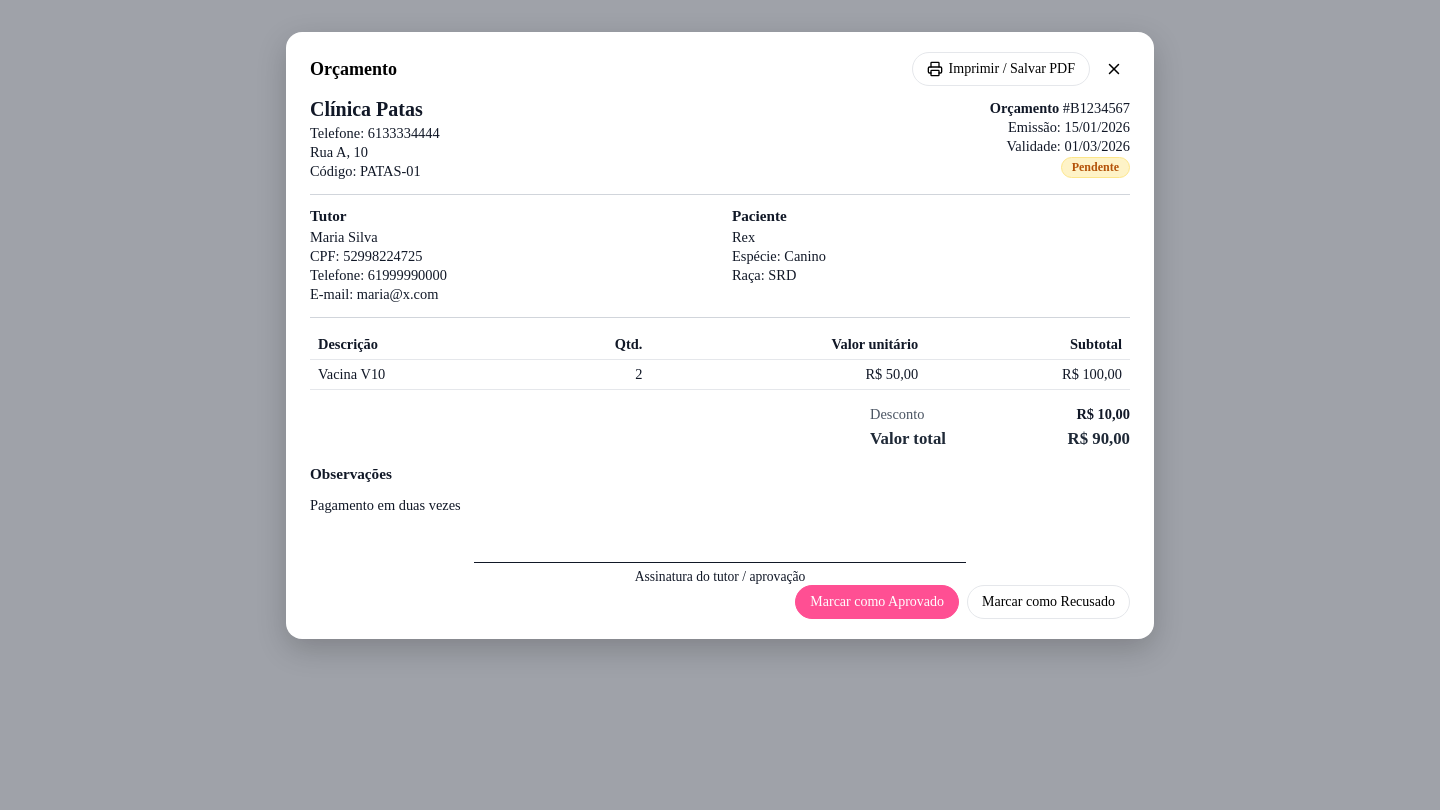
Scenario: BudgetDetailsPrintModal › exige confirmação antes de aprovar ou recusar no modal
The width and height of the screenshot is (1440, 810).
What coordinates should you click on to do the following:
click the button "Marcar como Aprovado"
I would click on:
 (877, 602)
Its box is x1=795 y1=585 x2=959 y2=619.
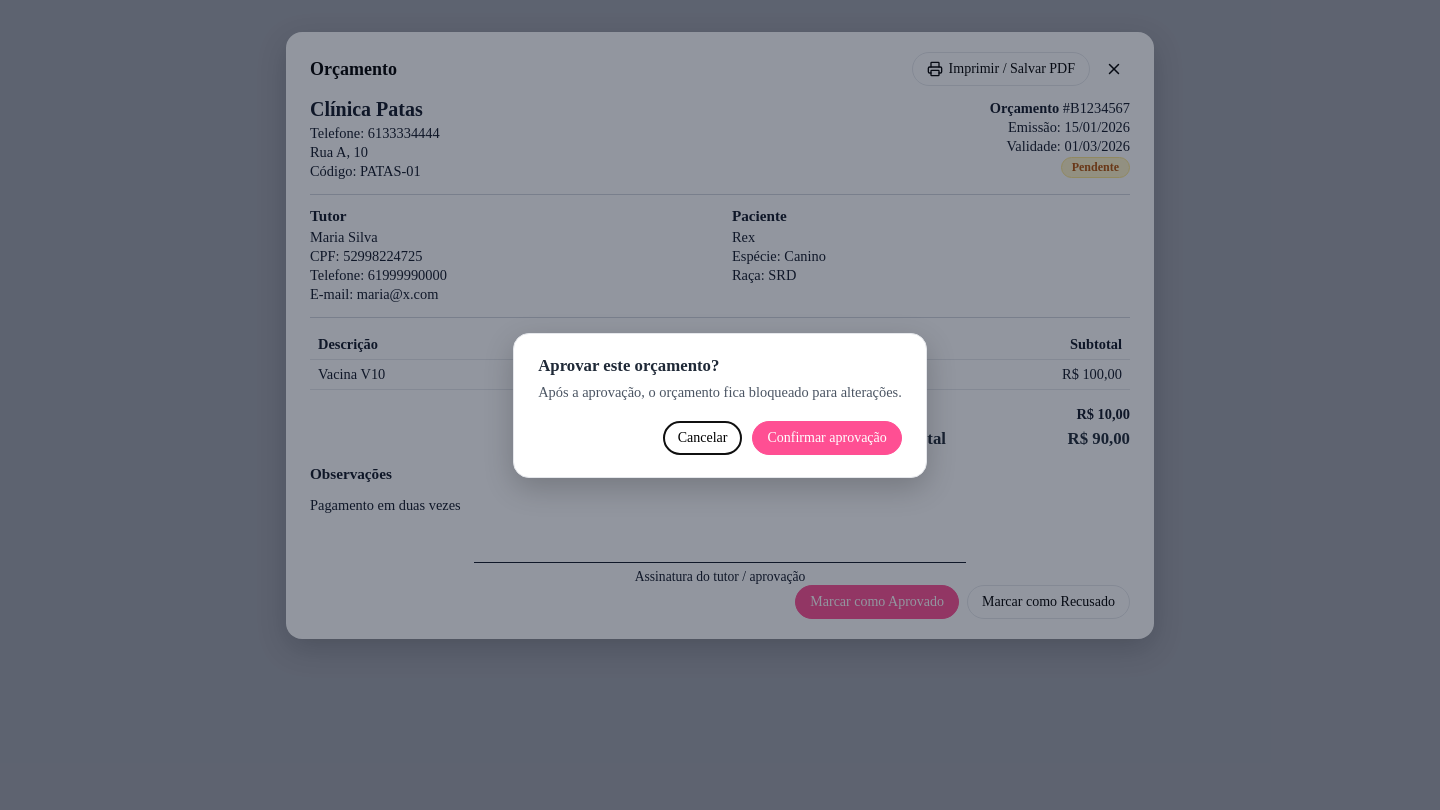
What coordinates should you click on to do the following:
click the button "Cancelar"
I would click on:
 (703, 438)
Its box is x1=663 y1=420 x2=742 y2=454.
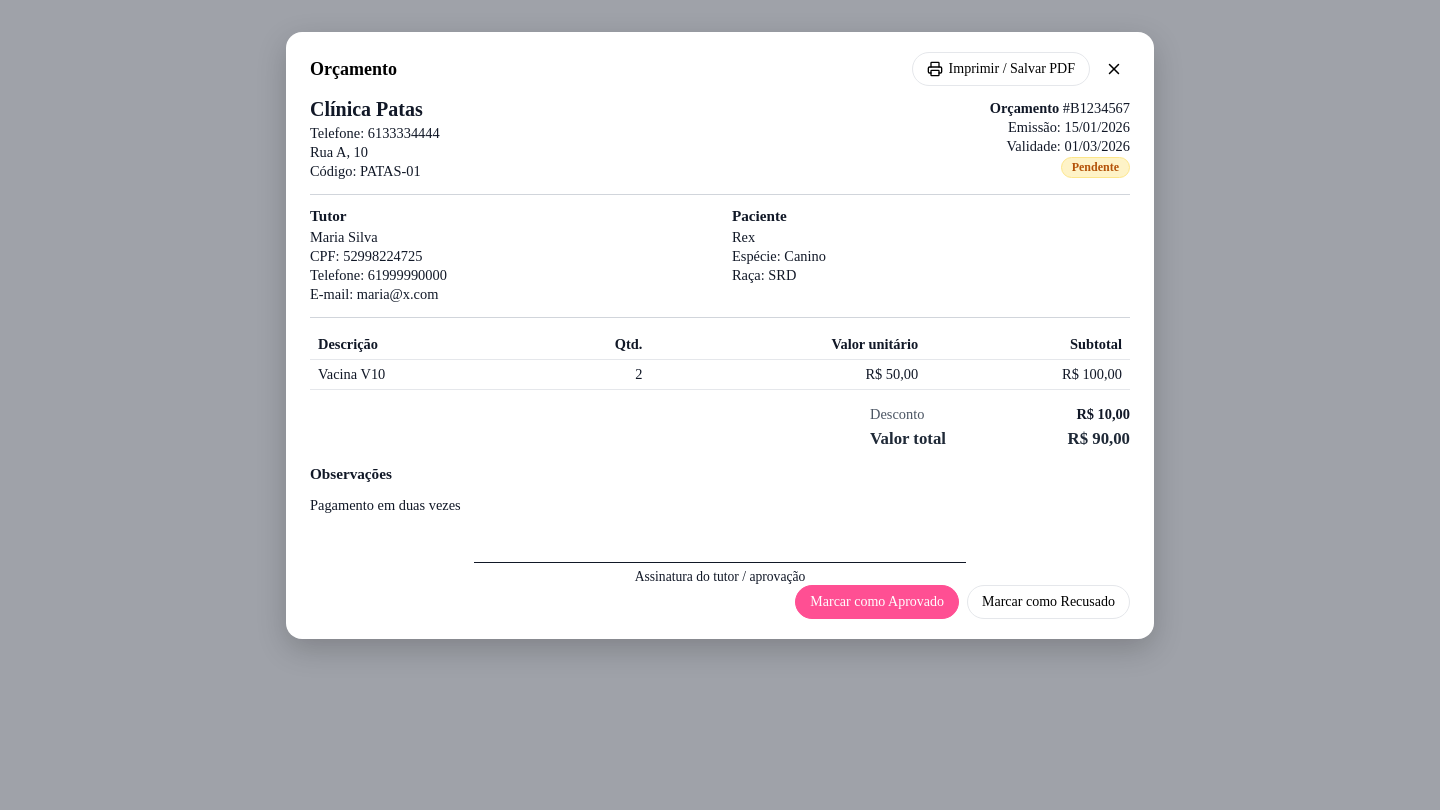
What coordinates should you click on to do the following:
click the button "Marcar como Aprovado"
I would click on:
 (877, 602)
Its box is x1=795 y1=585 x2=959 y2=619.
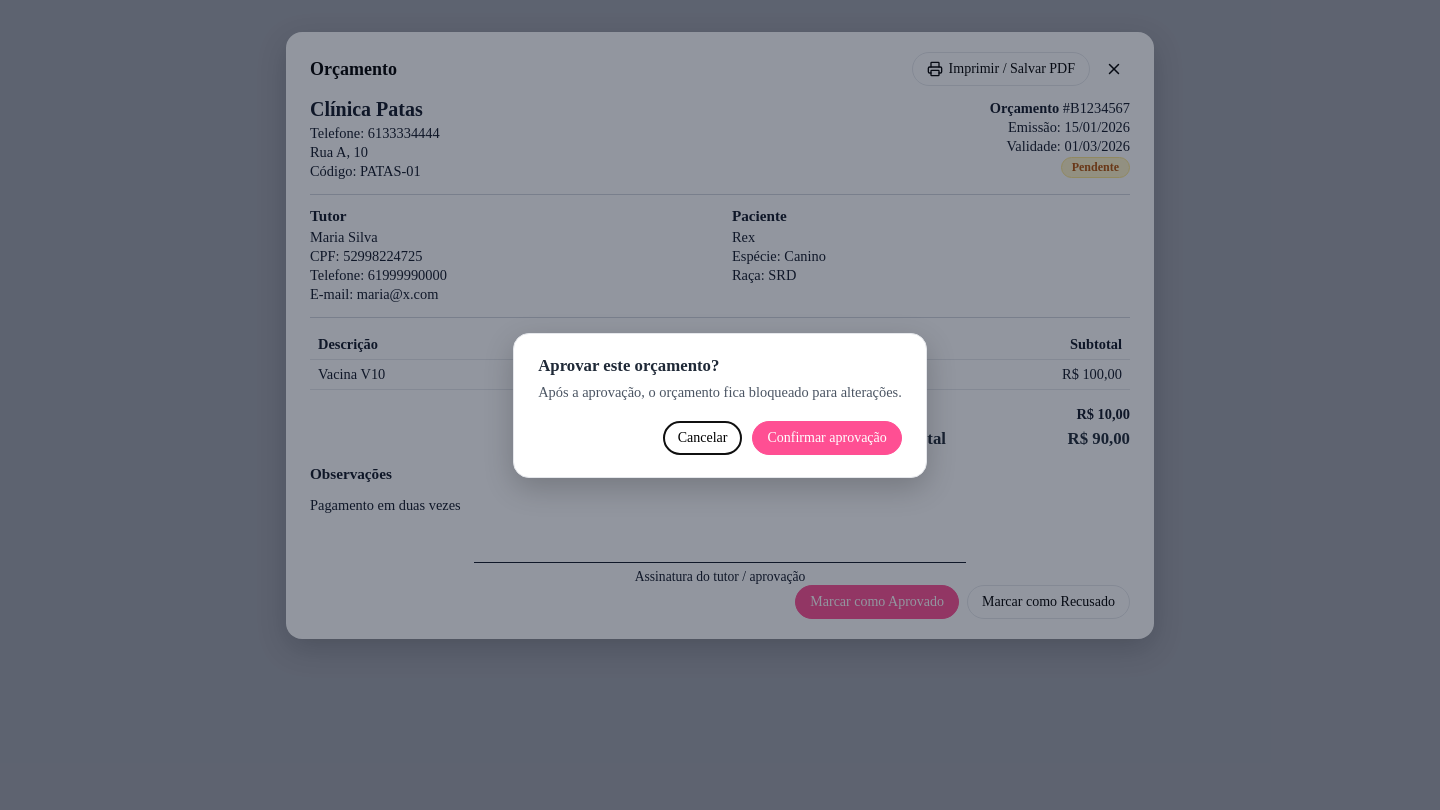
What coordinates should you click on to do the following:
click the button "Confirmar aprovação"
I would click on:
 (827, 438)
Its box is x1=752 y1=420 x2=902 y2=454.
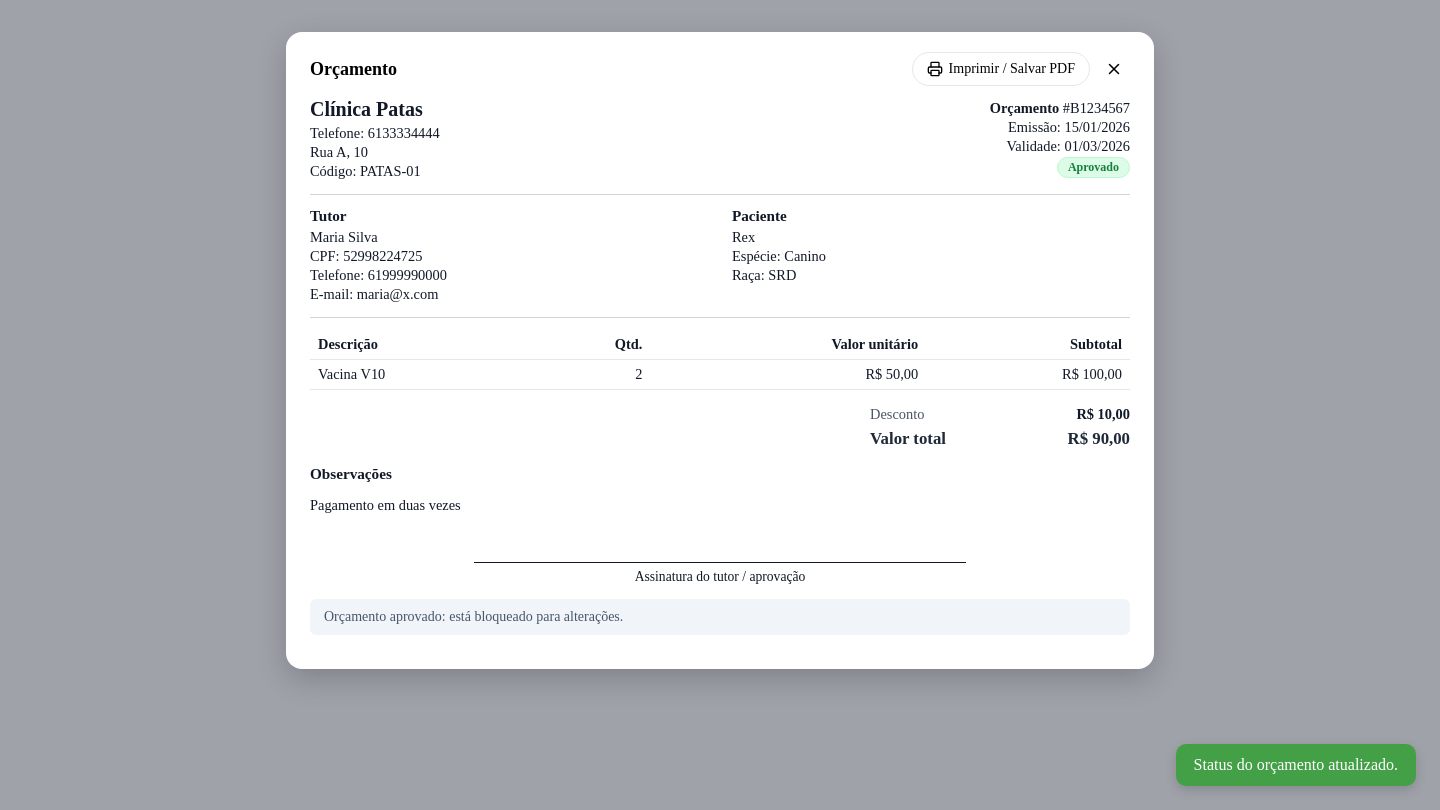
Check: the text "Status do orçamento atualizado." is shown, box x1=1176 y1=744 x2=1416 y2=786
